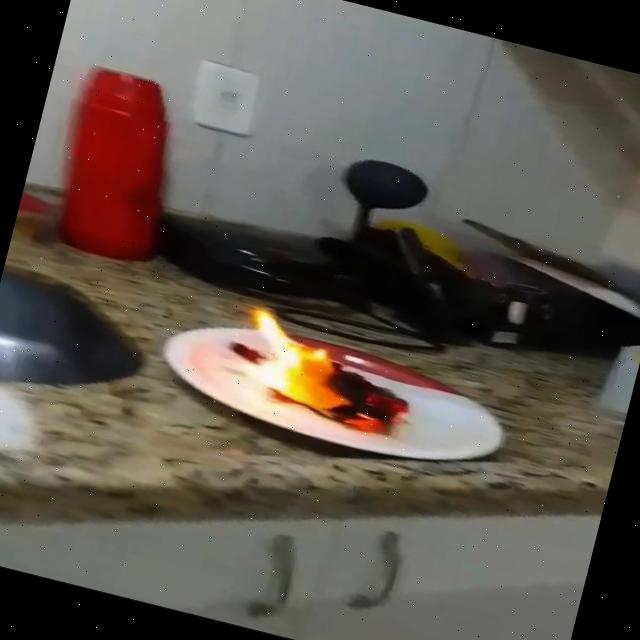fire: (226, 302, 424, 441)
